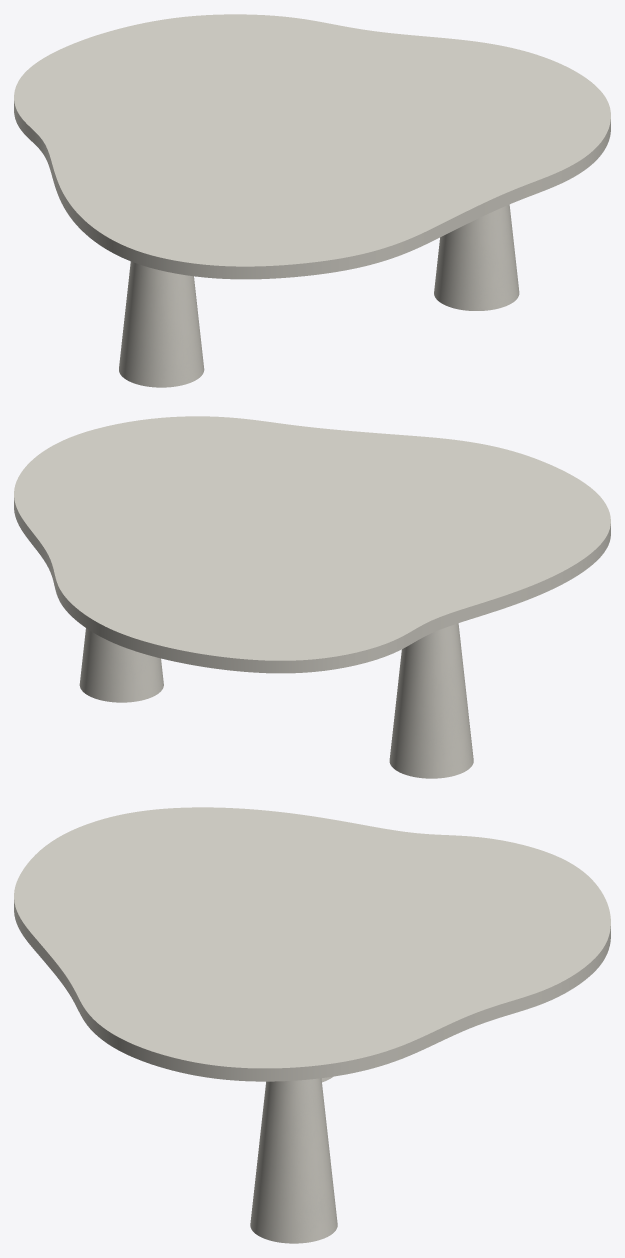
The model's file is pale_topone_standard_pebble.glb.
The picture shows the model from 3 angles, top to bottom: view 1: azimuth 30°, elevation 25°; view 2: azimuth 150°, elevation 25°; view 3: azimuth 270°, elevation 25°; orthographic projection. The views are drawn at different scales.
Visible parts, largest first — view 1: standard_topone, pebble; view 2: standard_topone, pebble; view 3: standard_topone, pebble.
Part boxes in pixels (left/top/right/bottom): standard_topone: left=14, top=14, right=610, bottom=279; pebble: left=119, top=204, right=519, bottom=387; standard_topone: left=14, top=416, right=610, bottom=673; pebble: left=79, top=623, right=473, bottom=778; standard_topone: left=14, top=807, right=610, bottom=1081; pebble: left=250, top=1076, right=337, bottom=1243.
Size of the model in its own units: 6.83 by 2.5 by 6.6.
Materials: 1 (1 with a texture image).
